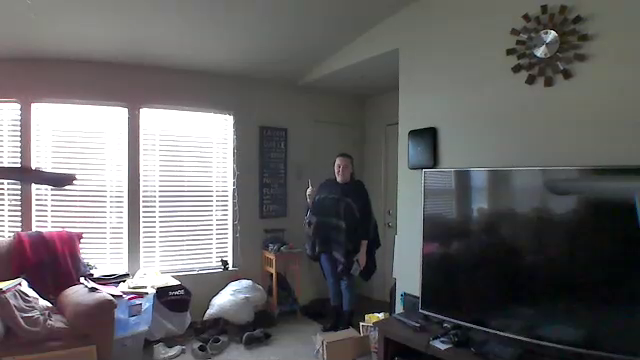up: (301, 174, 320, 202)
